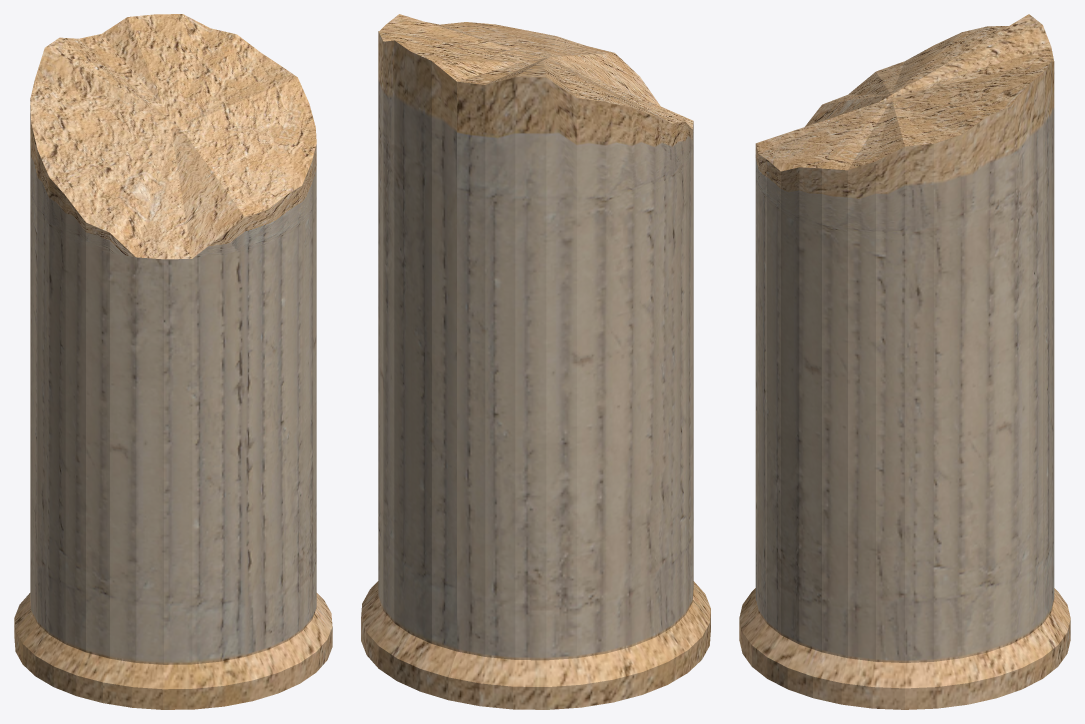
Rendered from pillarbroken.fbx.
The picture shows the model from 3 angles, left to right: view 1: azimuth 30°, elevation 25°; view 2: azimuth 150°, elevation 25°; view 3: azimuth 270°, elevation 25°; orthographic projection. The views are drawn at different scales.
Visible parts, largest first — view 1: Cylinder; view 2: Cylinder; view 3: Cylinder.
Boxes of the visible parts, x1,y1,x2,y2 form: Cylinder: (14,14,332,709); Cylinder: (361,14,710,709); Cylinder: (739,14,1070,709).
Bounding box in the file's own units: 222 × 437 × 222.
Materials: 1 (1 with a texture image).
